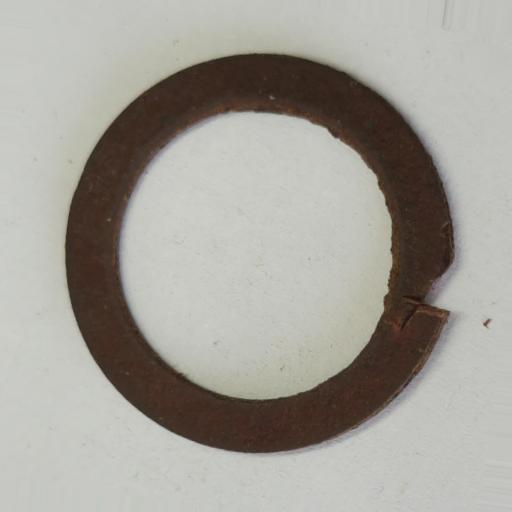defect: (401, 256, 456, 332)
